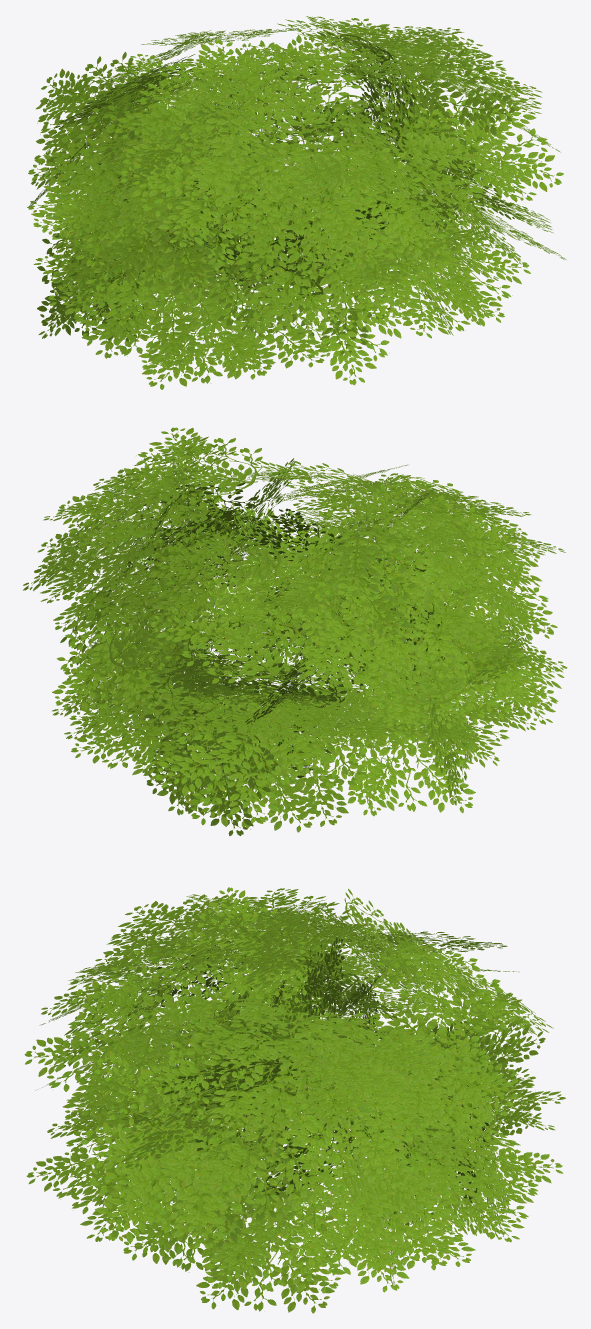
Rendered from mata.glb.
3 renders of one model, top to bottom at view 1: azimuth 30°, elevation 25°; view 2: azimuth 150°, elevation 25°; view 3: azimuth 270°, elevation 25°, orthographic. The views are drawn at different scales.
Visible parts, largest first — view 1: leaves; view 2: leaves; view 3: leaves.
Part boxes in pixels (bbox=[...]): leaves: bbox=[27, 16, 566, 389]; leaves: bbox=[23, 427, 567, 835]; leaves: bbox=[24, 887, 565, 1313].
Size of the model in its own units: 4.17 by 2.37 by 3.88.
1 material, 1 textured.
